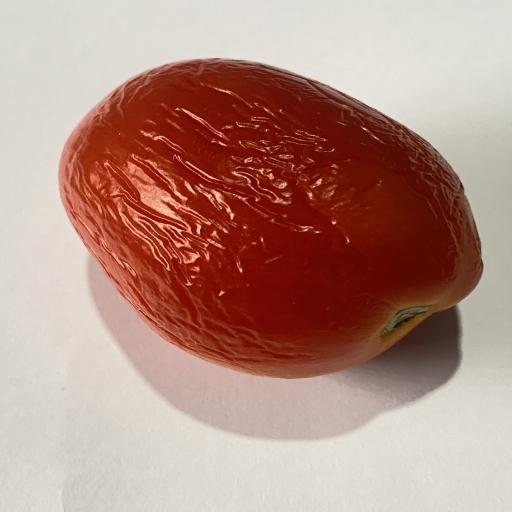spoiled: (59, 59, 482, 378)
